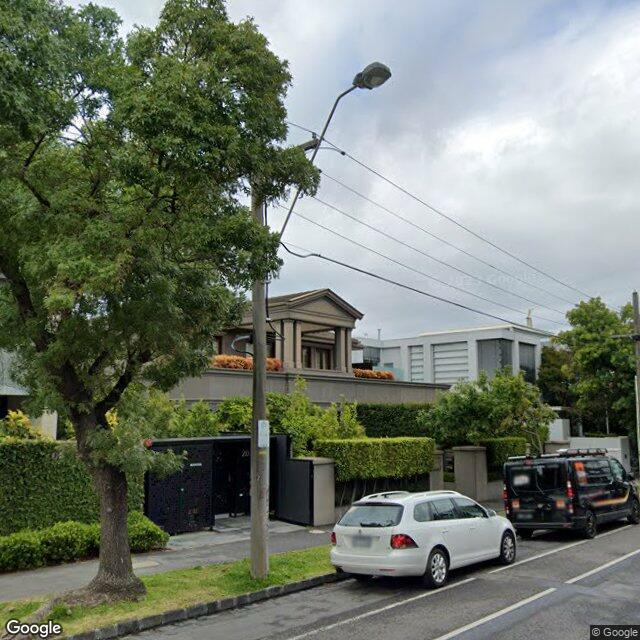crossarm: (216, 131, 320, 184), (611, 333, 640, 339)
streetlight: (268, 62, 392, 270)
timber-pole: (249, 178, 272, 578), (632, 291, 640, 404)
